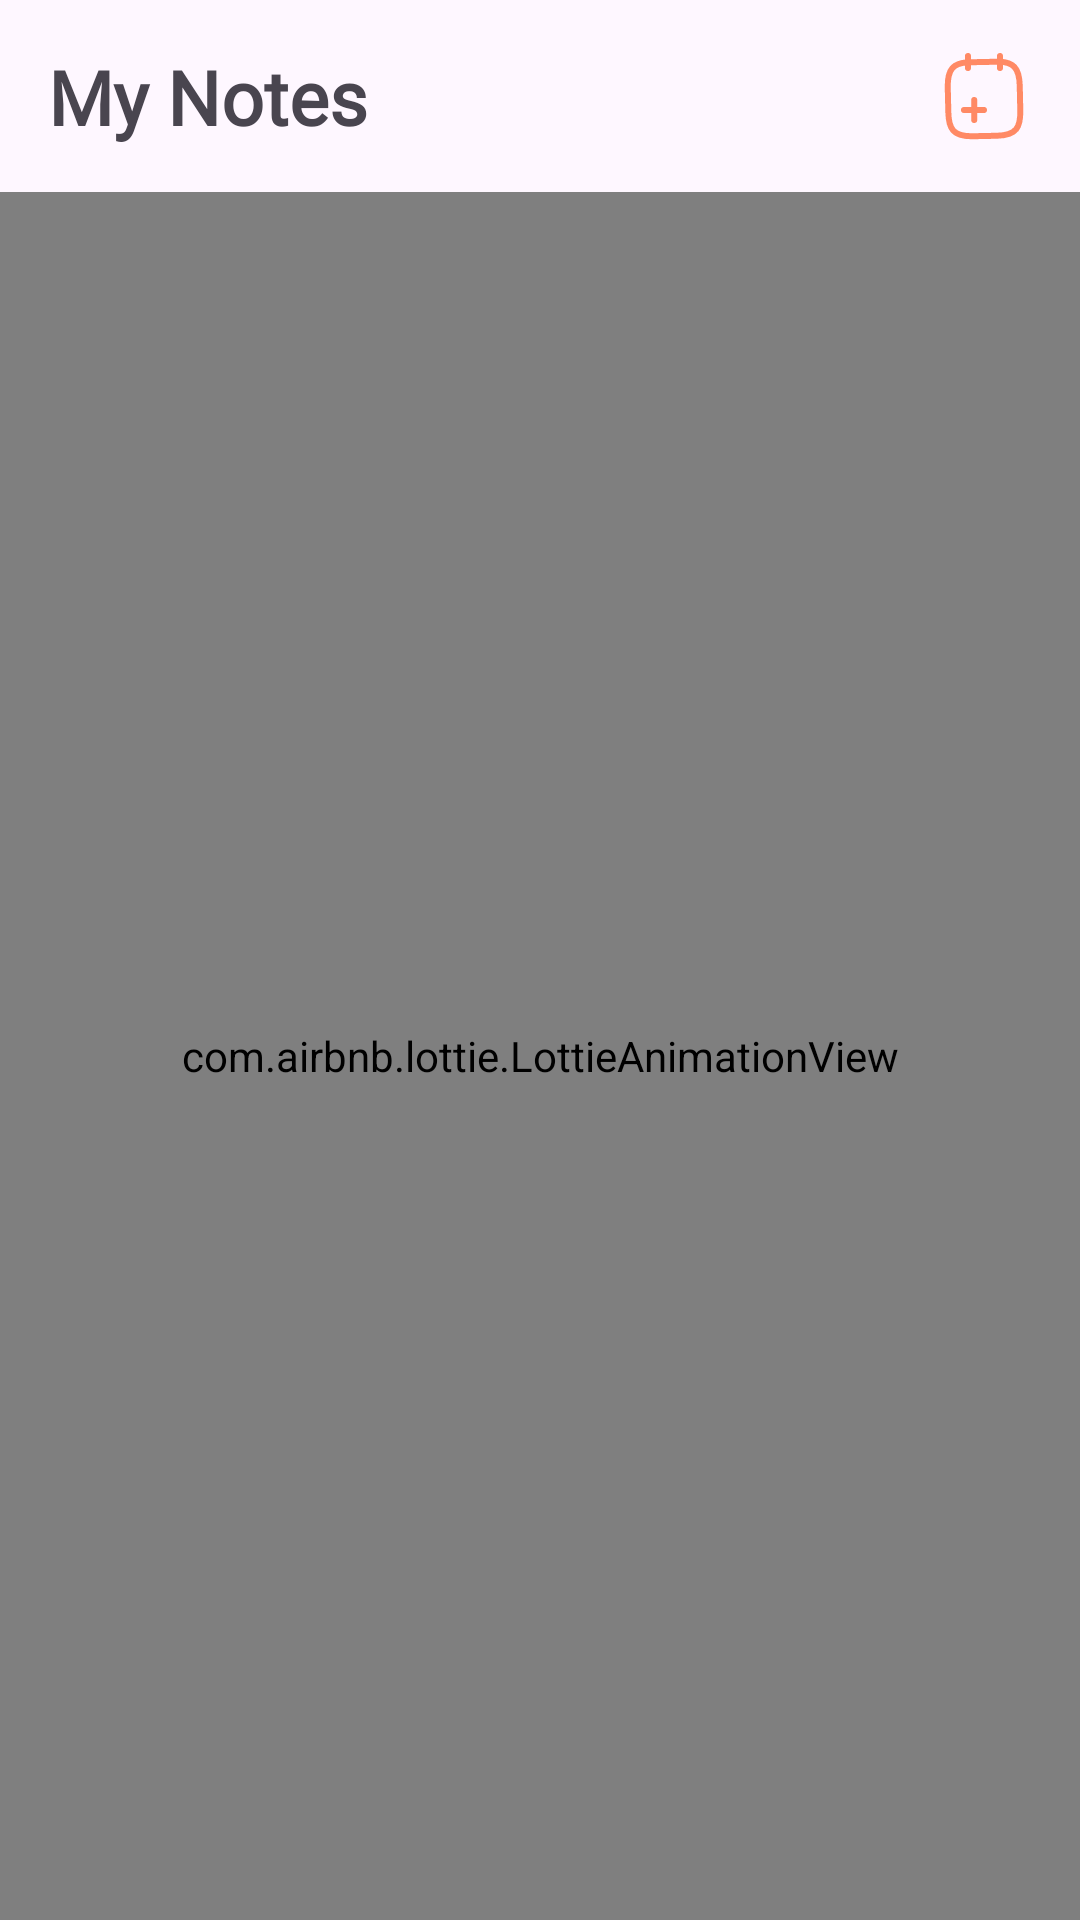

Locate icon controls on the screen. Image size 1080x1920, boxes as box=[x1, y1, x2, y2].
noteadd linear: box=[944, 53, 1024, 140]
